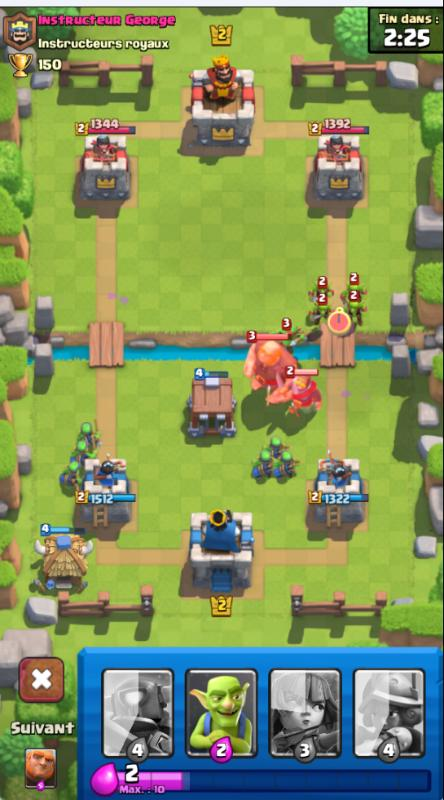chevalier: (280, 364, 324, 424)
geant: (244, 330, 304, 408)
gobelin: (306, 299, 335, 330), (340, 273, 366, 304), (341, 299, 366, 329), (307, 278, 333, 302)
gobelin_lances: (54, 456, 84, 495), (274, 319, 303, 359), (74, 417, 102, 456), (69, 443, 99, 476), (275, 450, 301, 486), (249, 450, 275, 482), (263, 432, 288, 463)
